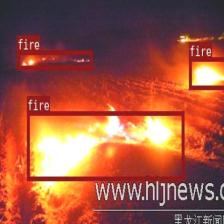fire: (27, 110, 184, 180), (17, 50, 92, 70), (188, 56, 224, 88)
